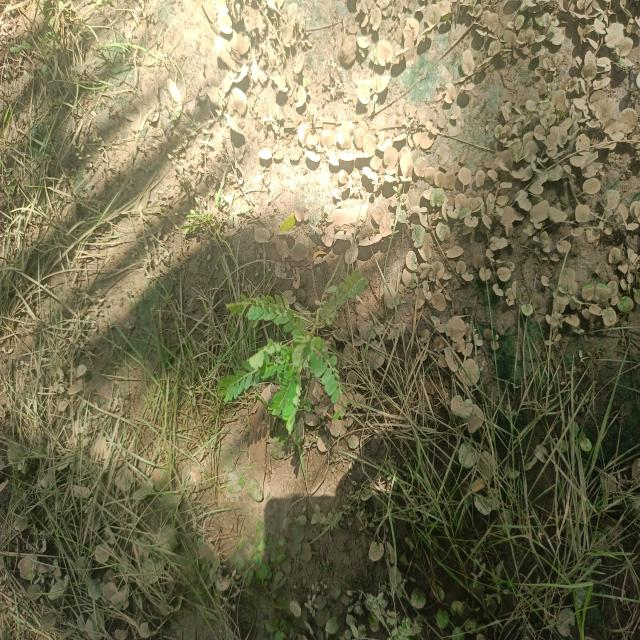weed: (216, 275, 369, 438)
